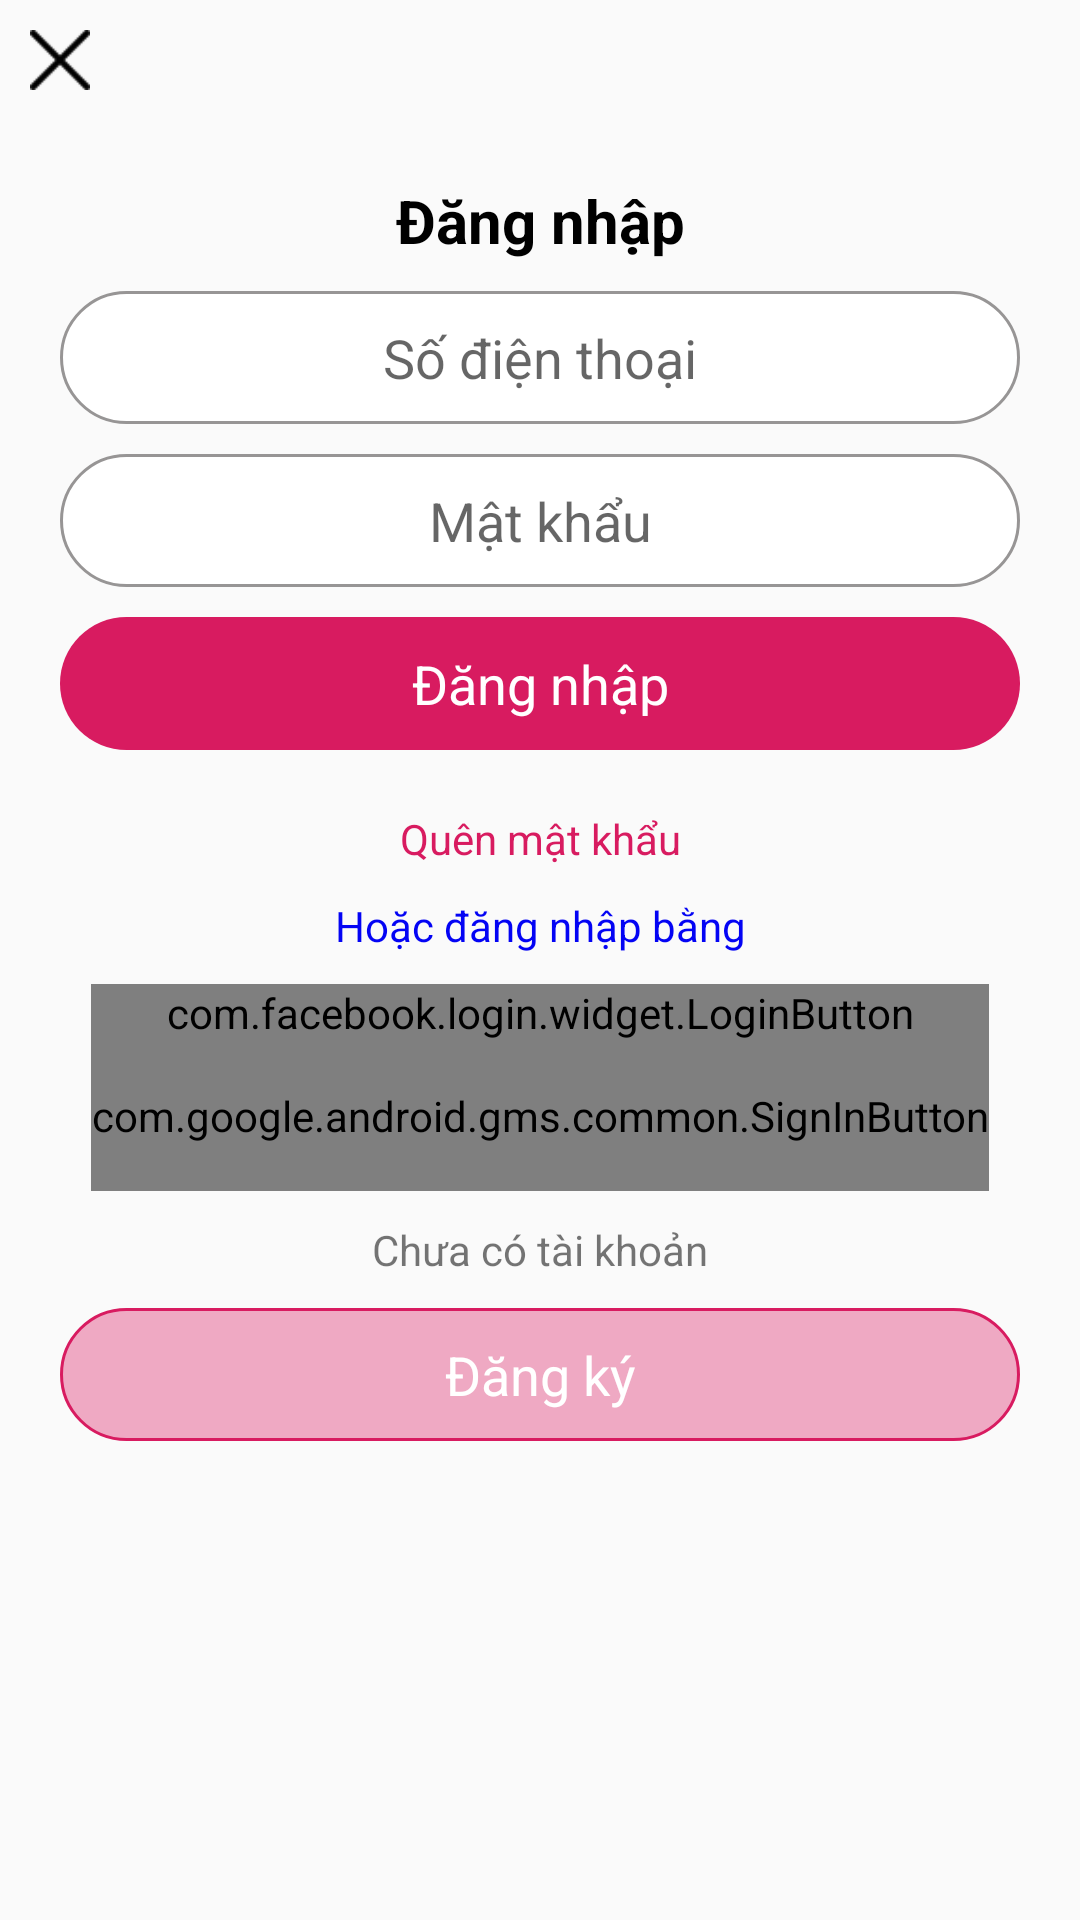

Screen size 1080 x 1920. Icon name, then its center in pixels as [x,y]:
cancel: [60,60]
